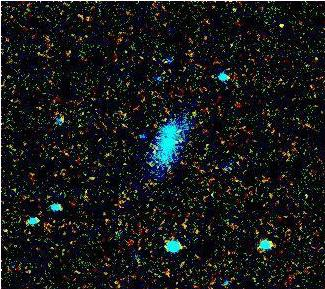star: (265, 10, 295, 40)
